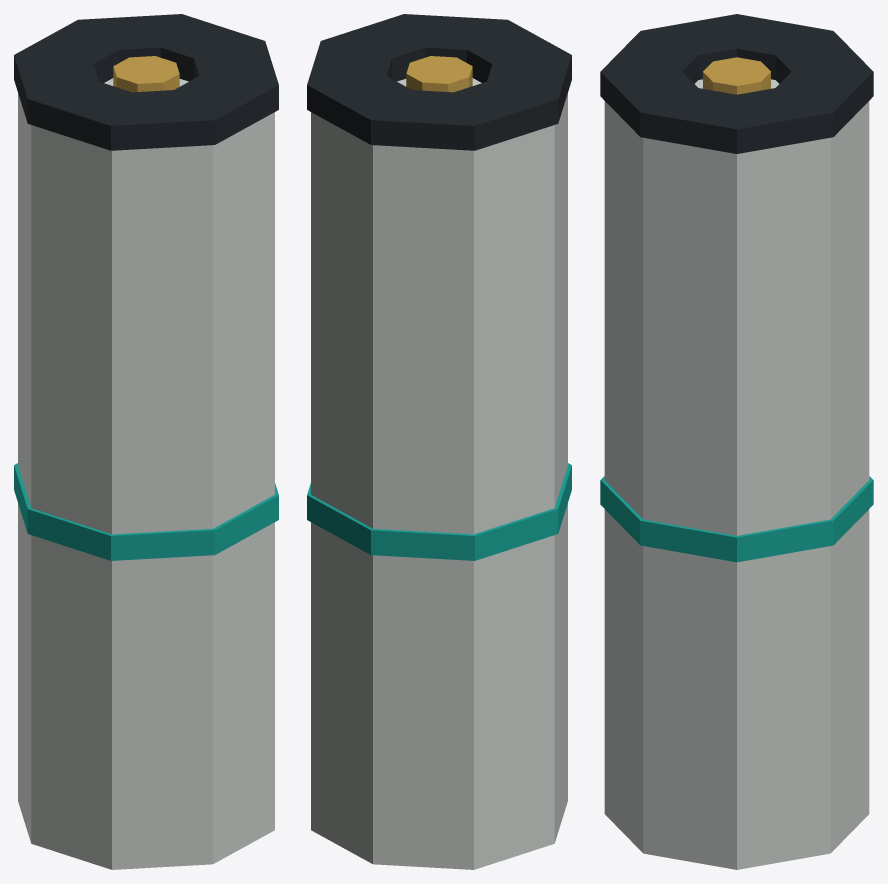
File: ss_tank_oxygen_1.2m.glb
3 views of the same model, side by side, from view 1: azimuth 30°, elevation 25°; view 2: azimuth 150°, elevation 25°; view 3: azimuth 270°, elevation 25° (orthographic).
Parts seen in each view (by area): view 1: tank_body, tank_collar, tank_band, tank_valve; view 2: tank_body, tank_collar, tank_band, tank_valve; view 3: tank_body, tank_collar, tank_band, tank_valve.
Boxes of the visible parts, <box> form: tank_body: <box>18,78,274,869</box>; tank_collar: <box>14,14,278,150</box>; tank_band: <box>14,463,278,560</box>; tank_valve: <box>113,56,179,92</box>; tank_body: <box>311,78,567,869</box>; tank_collar: <box>307,14,571,150</box>; tank_band: <box>307,463,571,560</box>; tank_valve: <box>406,56,472,92</box>; tank_body: <box>604,79,869,869</box>; tank_collar: <box>600,14,873,153</box>; tank_band: <box>600,476,873,562</box>; tank_valve: <box>703,57,770,94</box>.
Bounding box in the file's own units: 0.4 × 1.2 × 0.4.
